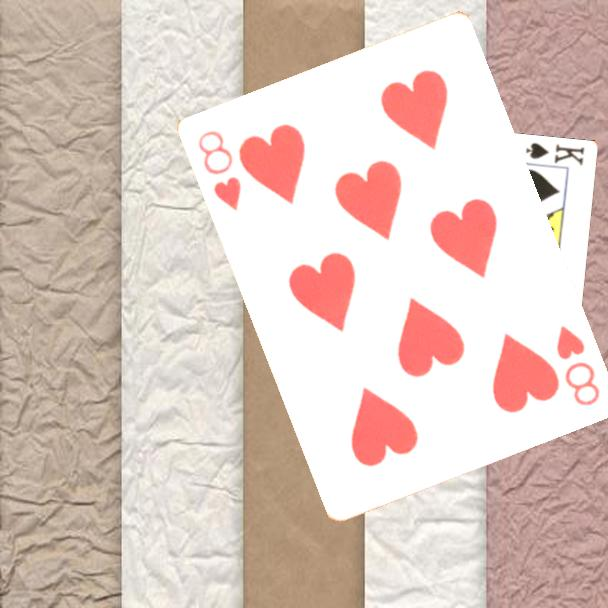h08: (552, 321, 603, 409), (193, 126, 244, 213)
s13: (522, 139, 586, 169)
